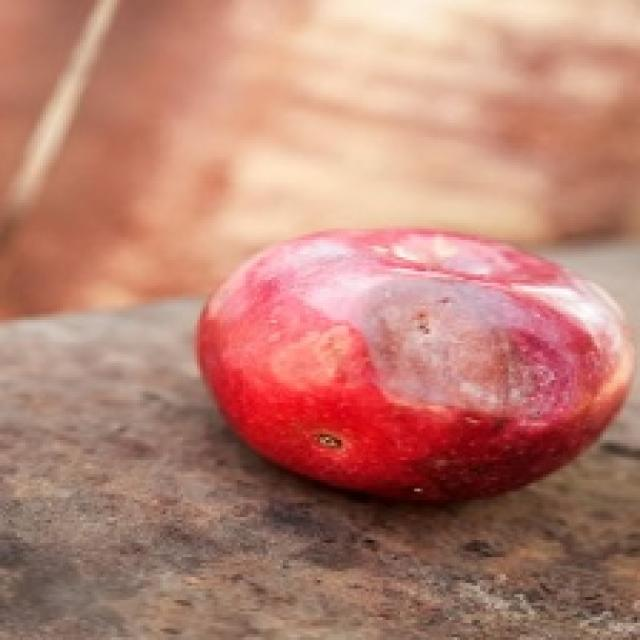rotten_apple: (197, 231, 630, 485)
